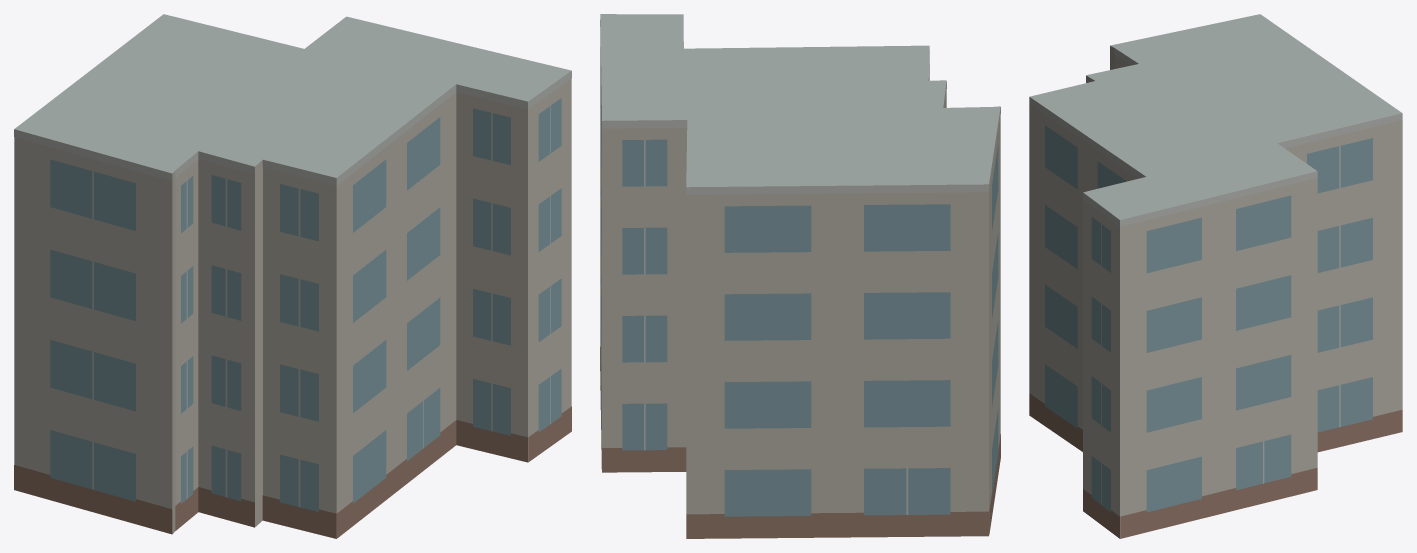
File: survey-upis-32628167.glb
3 views of the same model, side by side, from view 1: azimuth 30°, elevation 25°; view 2: azimuth 150°, elevation 25°; view 3: azimuth 270°, elevation 25° (orthographic). The views are drawn at different scales.
Visible parts, largest first — view 1: survey-upis-32628167.tmp; view 2: survey-upis-32628167.tmp; view 3: survey-upis-32628167.tmp.
Part boxes in pixels (<box>): survey-upis-32628167.tmp: <box>14,14,571,538</box>; survey-upis-32628167.tmp: <box>600,14,1000,538</box>; survey-upis-32628167.tmp: <box>1029,14,1402,538</box>.
Bounding box in the file's own units: 15.68 × 11.3 × 12.
